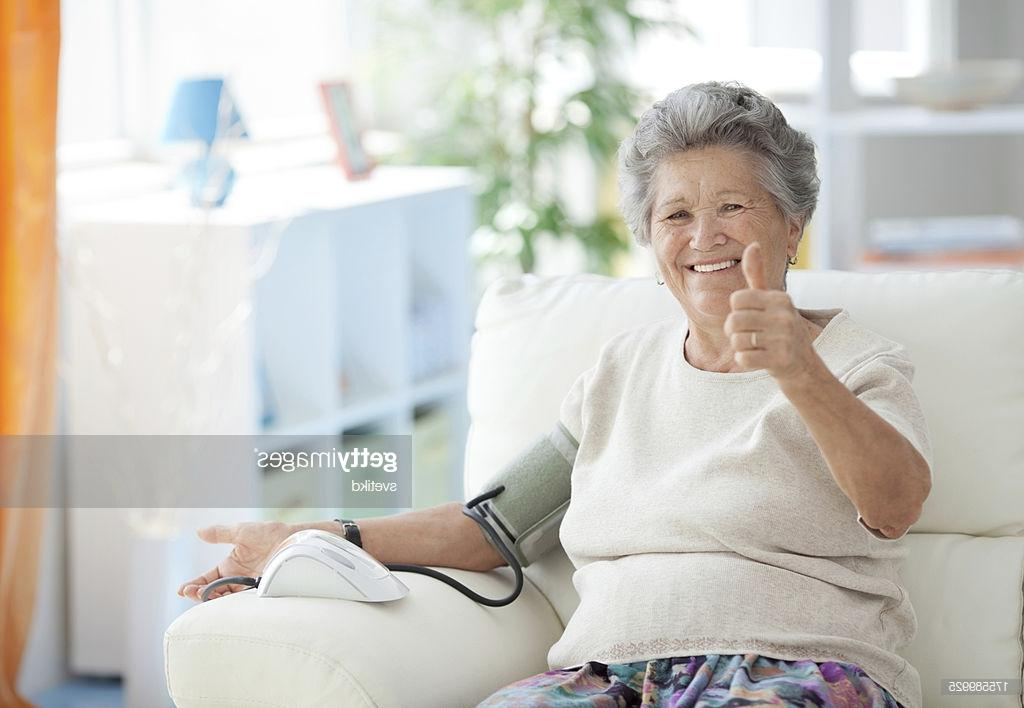thumbsup: (723, 241, 798, 372)
